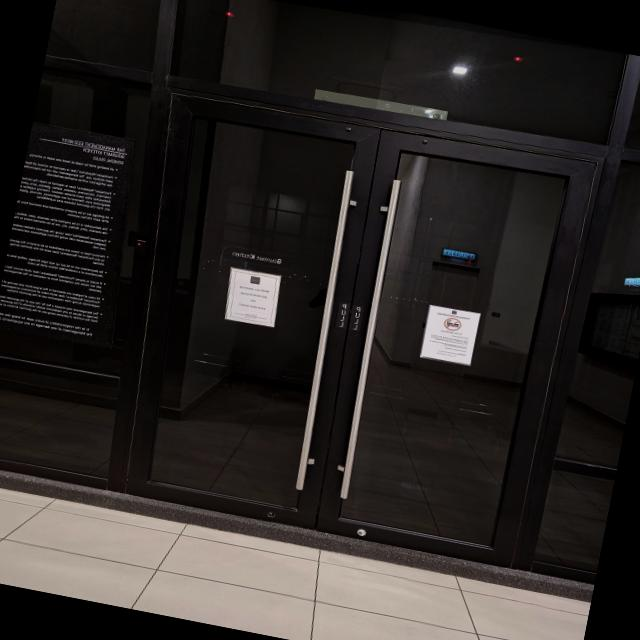door: (93, 76, 630, 584)
